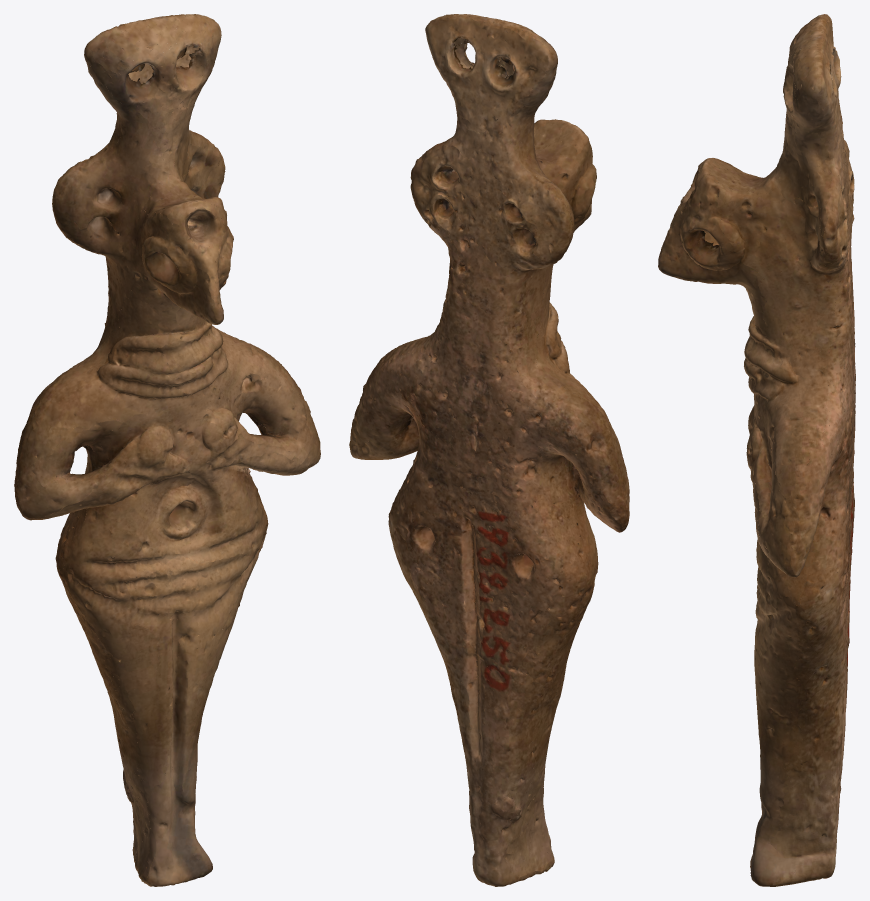
The model's file is weibliches_idol_mit_violinformigem_kopfputz.glb.
3 views of the same model, side by side, from view 1: azimuth 30°, elevation 25°; view 2: azimuth 150°, elevation 25°; view 3: azimuth 270°, elevation 25° (orthographic). The views are drawn at different scales.
Visible parts, largest first — view 1: Object_2; view 2: Object_2; view 3: Object_2.
Part boxes in pixels (bbox=[...]): Object_2: bbox=[14, 14, 320, 886]; Object_2: bbox=[349, 14, 629, 886]; Object_2: bbox=[658, 14, 855, 886].
Size of the model in its own units: 1.02 by 2.86 by 0.6085.
1 material, 1 textured.
